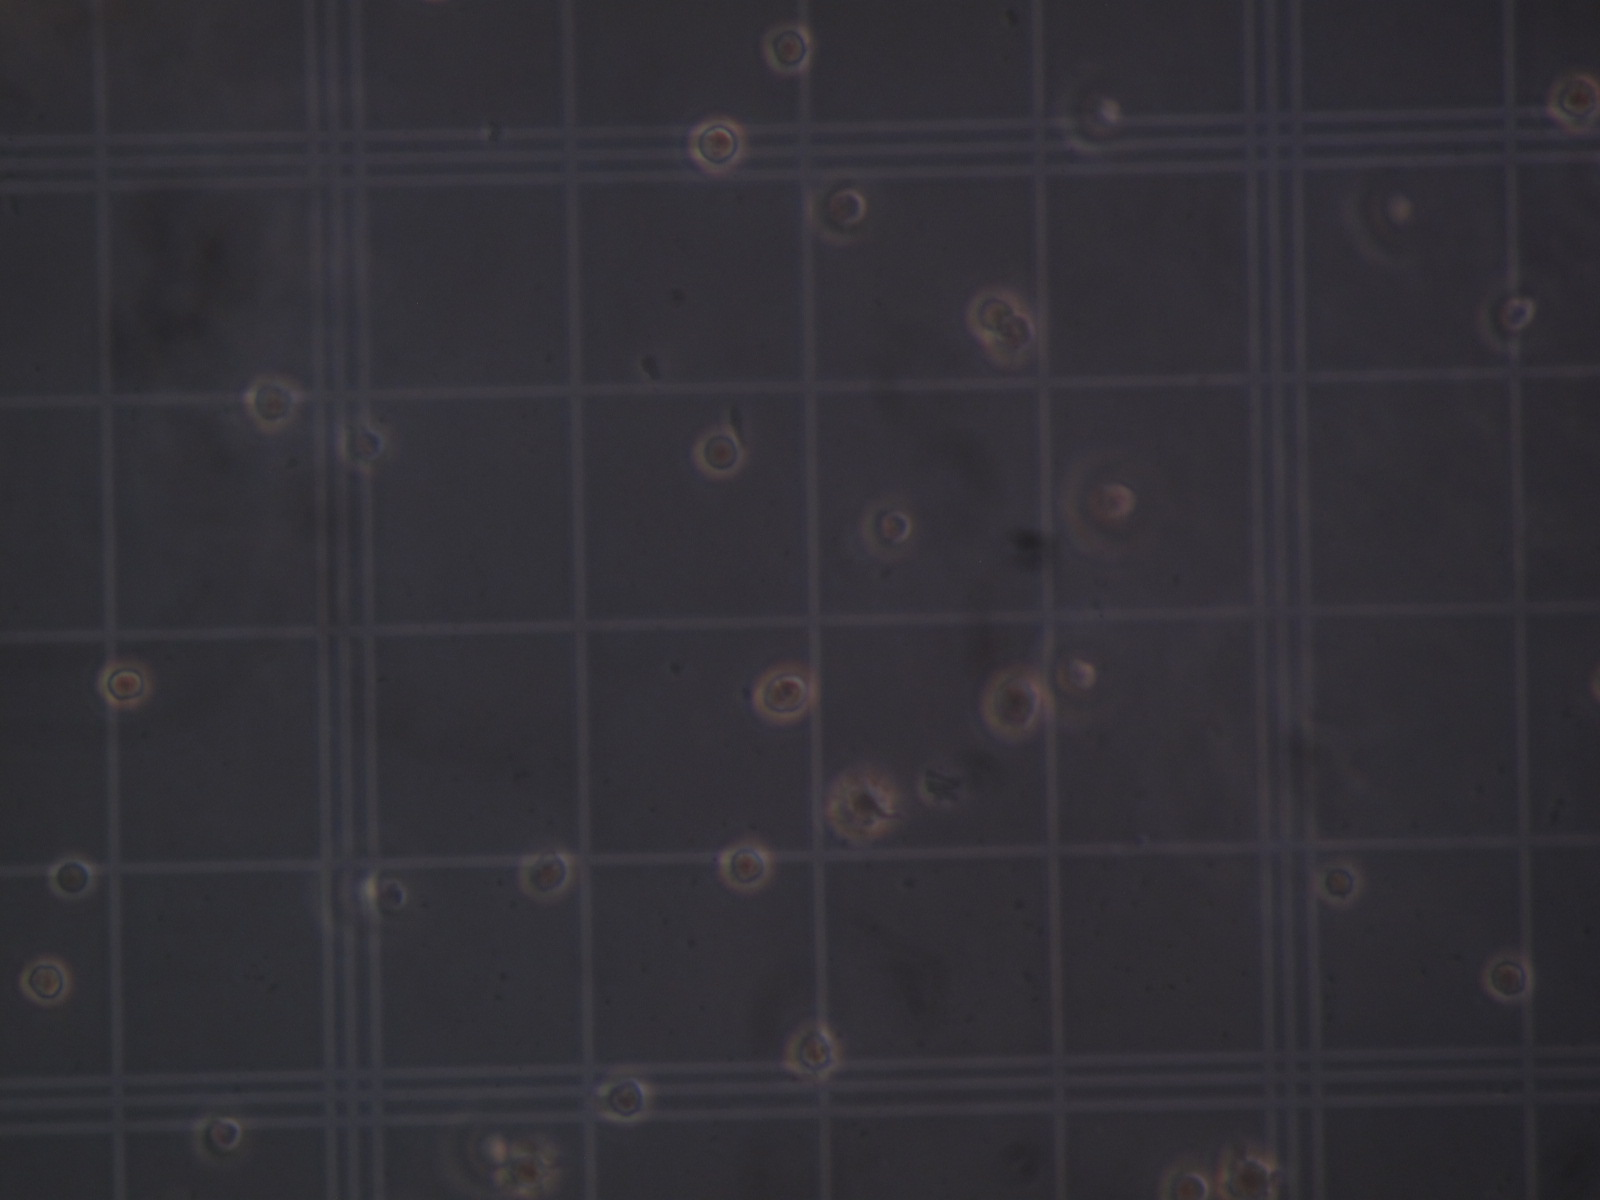hemo: (1060, 455, 1136, 557), (1053, 78, 1125, 156), (1042, 634, 1100, 727), (826, 775, 893, 845), (1477, 280, 1537, 355), (981, 668, 1043, 739), (808, 178, 867, 246), (753, 663, 816, 724), (688, 115, 745, 175), (1216, 1147, 1279, 1200), (1547, 71, 1600, 134), (784, 1024, 840, 1079), (860, 500, 913, 560), (244, 374, 299, 430), (518, 847, 572, 901), (500, 1146, 556, 1197), (191, 1113, 244, 1166), (718, 841, 771, 892), (19, 955, 72, 1007), (597, 1074, 651, 1124), (692, 427, 745, 478), (98, 659, 152, 708), (966, 289, 1018, 339), (338, 421, 389, 471), (762, 23, 813, 74), (365, 868, 409, 926), (986, 310, 1036, 362), (1483, 953, 1533, 1002), (1317, 858, 1362, 906), (48, 855, 96, 900), (1159, 1163, 1212, 1200), (1591, 658, 1600, 706)
